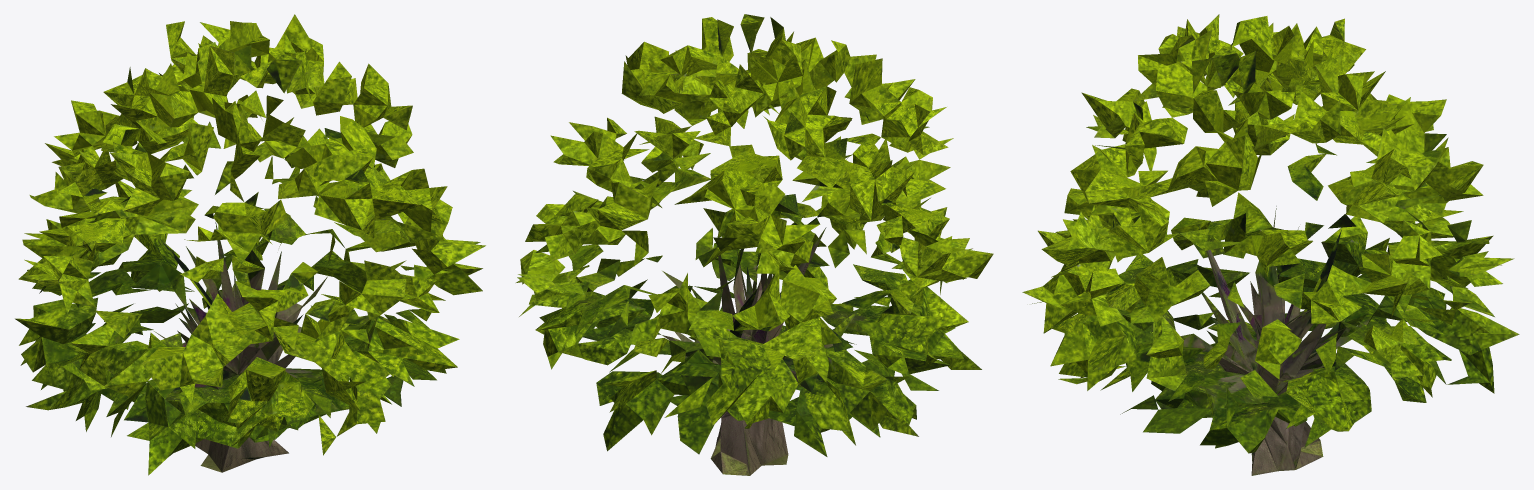
File: tree_beech.glb
The picture shows the model from 3 angles, left to right: view 1: azimuth 30°, elevation 25°; view 2: azimuth 150°, elevation 25°; view 3: azimuth 270°, elevation 25°; orthographic projection.
Size of the model in its own units: 1.81 by 1.79 by 1.87.
Materials: 1 (1 with a texture image).
